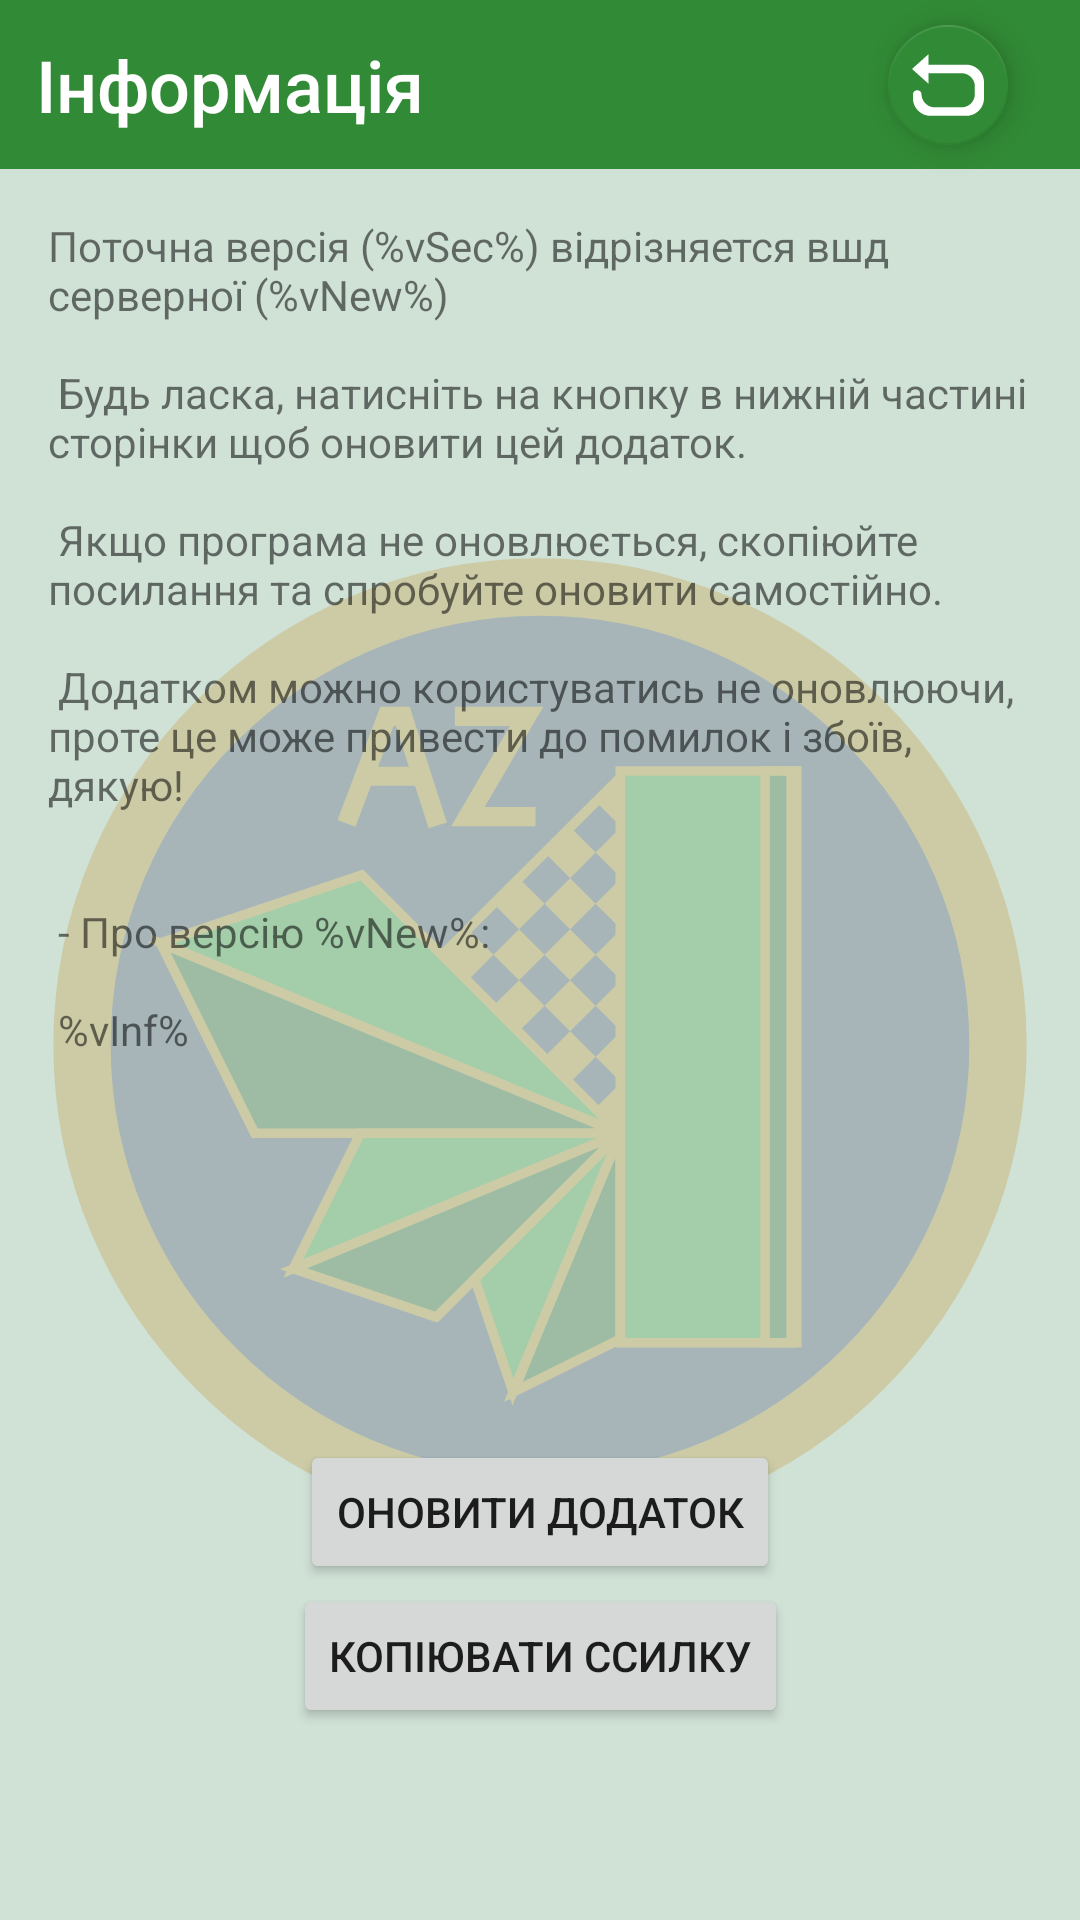

Named icons in this screenshot (1080 × 1920) and their bounding boxes, (x1, y1, x2, y2):
back item: (912, 25, 984, 116)
